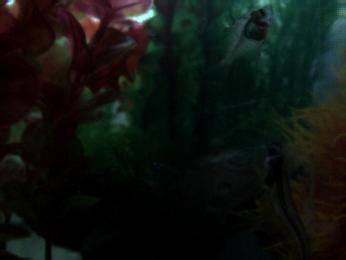X-ray fish: (202, 3, 274, 80)
glassfish: (259, 138, 314, 260)
